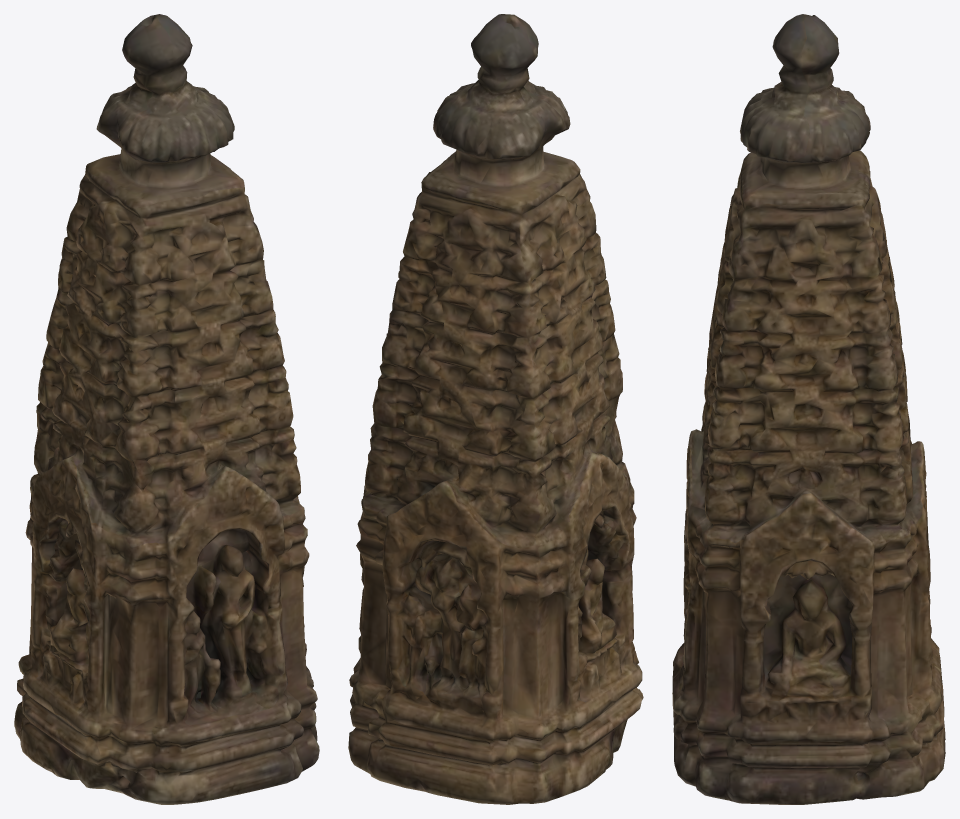
Rendered from cma-pala-kaolin-portable-temple.glb.
3 views of the same model, side by side, from view 1: azimuth 30°, elevation 25°; view 2: azimuth 150°, elevation 25°; view 3: azimuth 270°, elevation 25° (orthographic).
Visible parts, largest first — view 1: 1971.167_model_of_a_sikhara; view 2: 1971.167_model_of_a_sikhara; view 3: 1971.167_model_of_a_sikhara.
Part boxes in pixels (box(x1,y1,x2,y2)): 1971.167_model_of_a_sikhara: box(14, 14, 319, 804); 1971.167_model_of_a_sikhara: box(348, 14, 643, 804); 1971.167_model_of_a_sikhara: box(672, 14, 945, 804).
Bounding box in the file's own units: 0.0931 × 0.28 × 0.0945.
1 material, 1 textured.
